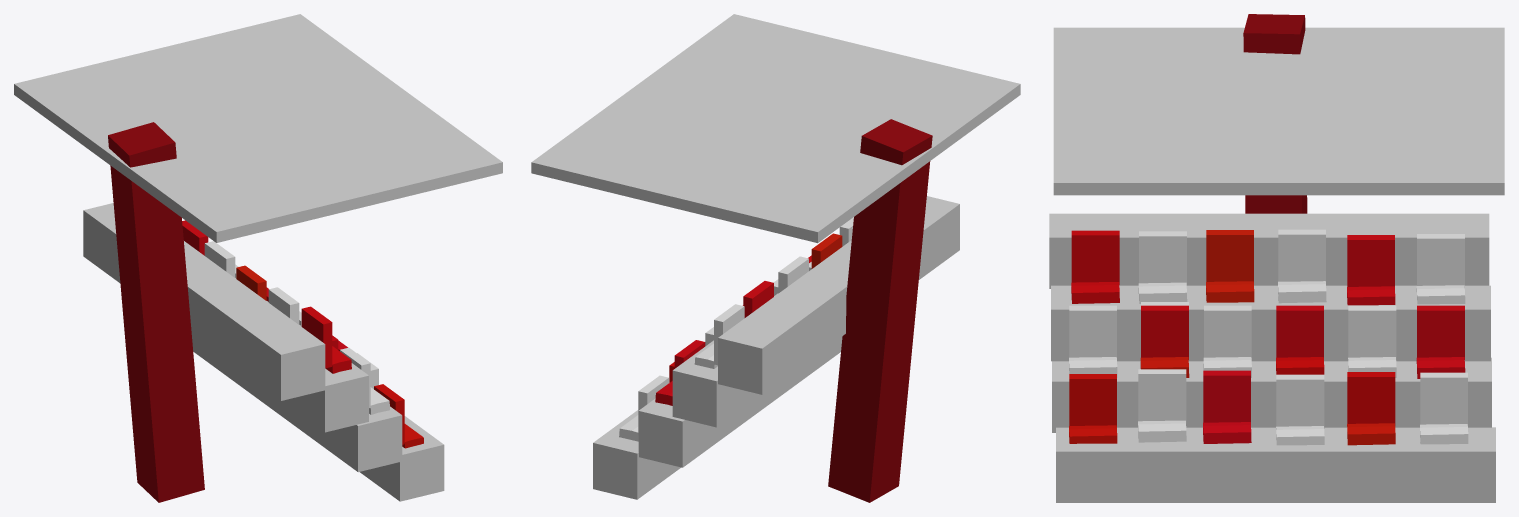
Rendered from Tribune v1.fbx.
3 renders of one model, left to right at view 1: azimuth 30°, elevation 25°; view 2: azimuth 150°, elevation 25°; view 3: azimuth 270°, elevation 25°, orthographic. The views are drawn at different scales.
Parts seen in each view (by area): view 1: Cube.007, Cube.005, Cube.004, Cube.002, Cube.003, Cube.001, Cube.033, Cube.006, Cube.034, Cube.009, Cube.031; view 2: Cube.007, Cube.005, Cube.004, Cube.002, Cube.001, Cube.003, Cube.008, Cube.022, Cube.021, Cube.009, Cube.031, Cube.024; view 3: Cube.007, Cube.001, Cube.004, Cube.003, Cube.002, Cube.033, Cube.009, Cube.032, Cube.005, Cube.031, Cube.034, Cube.021 (+21 smaller).
Boxes of the visible parts, x1,y1,x2,y2 form: Cube.007: (14, 14, 502, 242); Cube.005: (108, 122, 204, 502); Cube.004: (83, 203, 325, 400); Cube.002: (192, 336, 402, 472); Cube.003: (235, 278, 368, 432); Cube.001: (360, 416, 444, 501); Cube.033: (301, 306, 351, 373); Cube.006: (340, 347, 389, 414); Cube.034: (268, 287, 299, 324); Cube.009: (204, 241, 235, 277); Cube.031: (236, 265, 266, 300); Cube.007: (531, 14, 1020, 243); Cube.005: (828, 119, 932, 502); Cube.004: (718, 196, 959, 394); Cube.002: (638, 336, 842, 467); Cube.001: (593, 410, 680, 499); Cube.003: (672, 293, 778, 427); Cube.008: (694, 304, 744, 368); Cube.022: (655, 340, 705, 405); Cube.021: (743, 281, 773, 317); Cube.009: (778, 256, 808, 293); Cube.031: (811, 233, 842, 268); Cube.024: (638, 375, 668, 435); Cube.007: (1053, 27, 1504, 195); Cube.001: (1056, 427, 1495, 502); Cube.004: (1049, 213, 1489, 288); Cube.003: (1051, 285, 1490, 361); Cube.002: (1052, 357, 1491, 432); Cube.033: (1071, 230, 1119, 303); Cube.009: (1278, 229, 1326, 303); Cube.032: (1203, 370, 1251, 443); Cube.005: (1243, 14, 1307, 213); Cube.031: (1206, 230, 1254, 302); Cube.034: (1138, 231, 1187, 303); Cube.021: (1347, 235, 1395, 305).
Size of the model in its own units: 1164 by 1404 by 1439.
